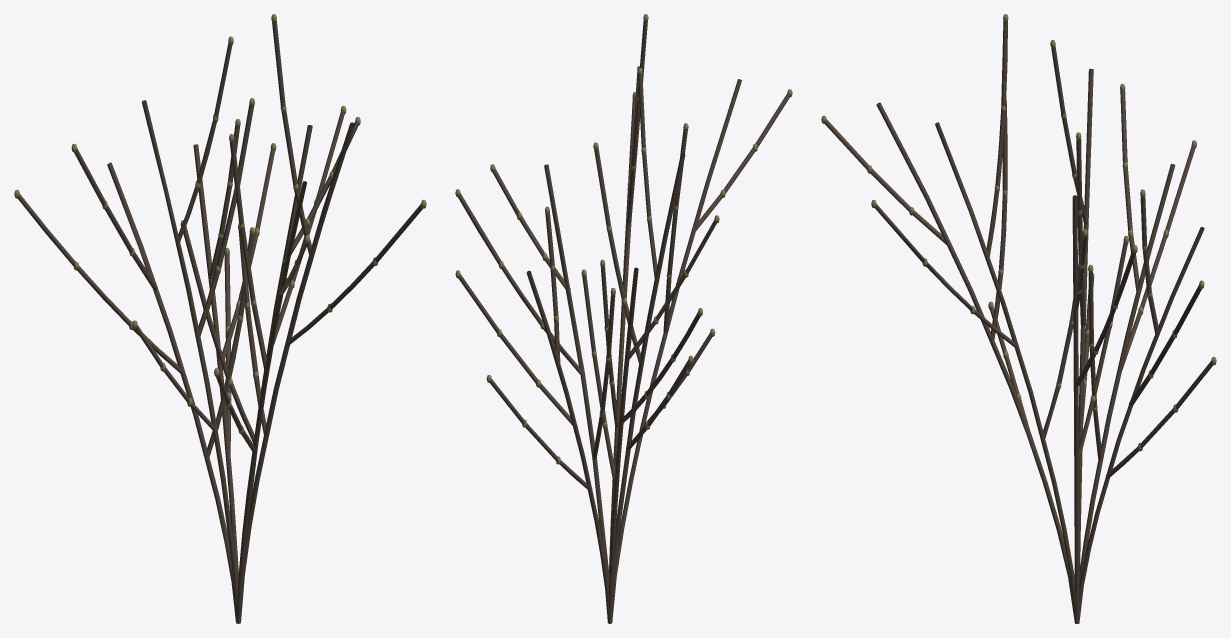
File: twig-1.glb
3 views of the same model, side by side, from view 1: azimuth 30°, elevation 25°; view 2: azimuth 150°, elevation 25°; view 3: azimuth 270°, elevation 25° (orthographic). The views are drawn at different scales.
Visible parts, largest first — view 1: twig-stems, twig-leaves; view 2: twig-stems, twig-leaves; view 3: twig-stems, twig-leaves.
Part boxes in pixels (x1=…): twig-stems: x1=17, y1=20, x2=422, y2=623; twig-leaves: x1=14, y1=14, x2=426, y2=434; twig-stems: x1=458, y1=20, x2=790, y2=623; twig-leaves: x1=455, y1=14, x2=792, y2=464; twig-stems: x1=824, y1=20, x2=1213, y2=623; twig-leaves: x1=821, y1=14, x2=1216, y2=451.
Bounding box in the file's own units: 0.3806 × 0.7695 × 0.4529.
